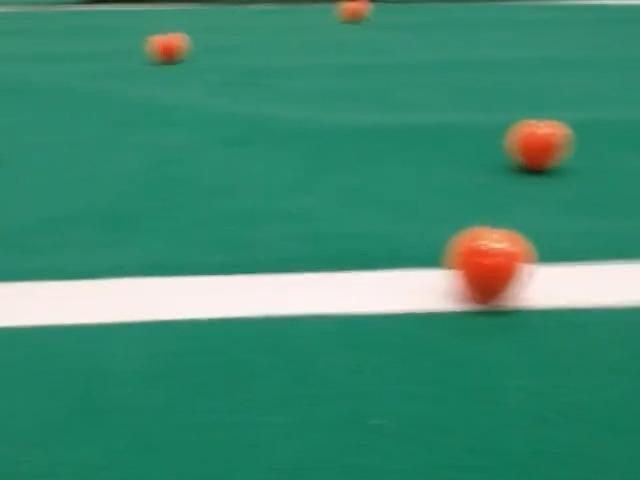Ball: (443, 227, 536, 305), (504, 119, 573, 172), (145, 33, 190, 63), (334, 0, 372, 24)
